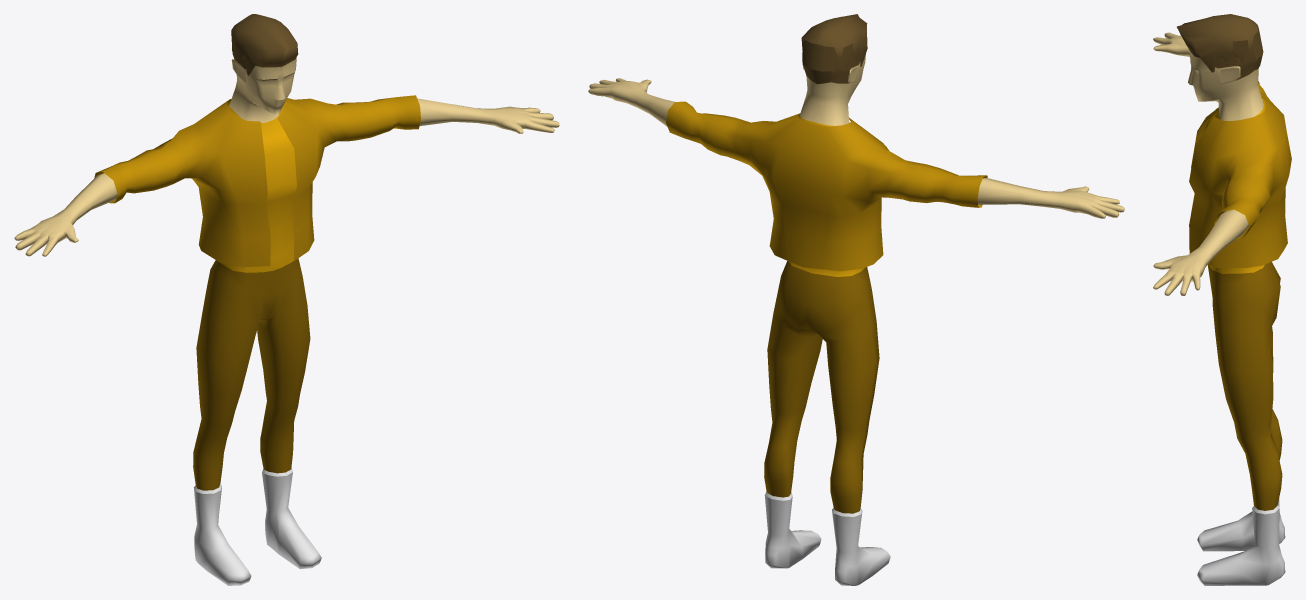
The model's file is Cook.fbx.
3 renders of one model, left to right at view 1: azimuth 30°, elevation 25°; view 2: azimuth 150°, elevation 25°; view 3: azimuth 270°, elevation 25°, orthographic.
Parts seen in each view (by area): view 1: cook; view 2: cook; view 3: cook.
Boxes of the visible parts, <box> form: cook: <box>14,14,559,585</box>; cook: <box>588,14,1124,585</box>; cook: <box>1153,14,1291,585</box>.
Size of the model in its own units: 190 by 184 by 42.45.
